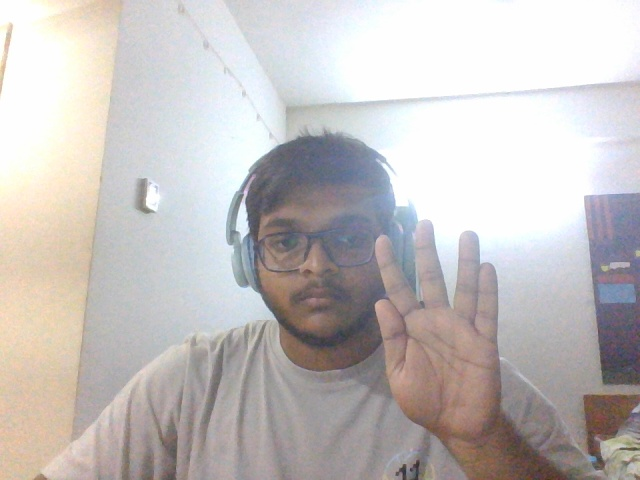LiveLong: (372, 219, 500, 430)
